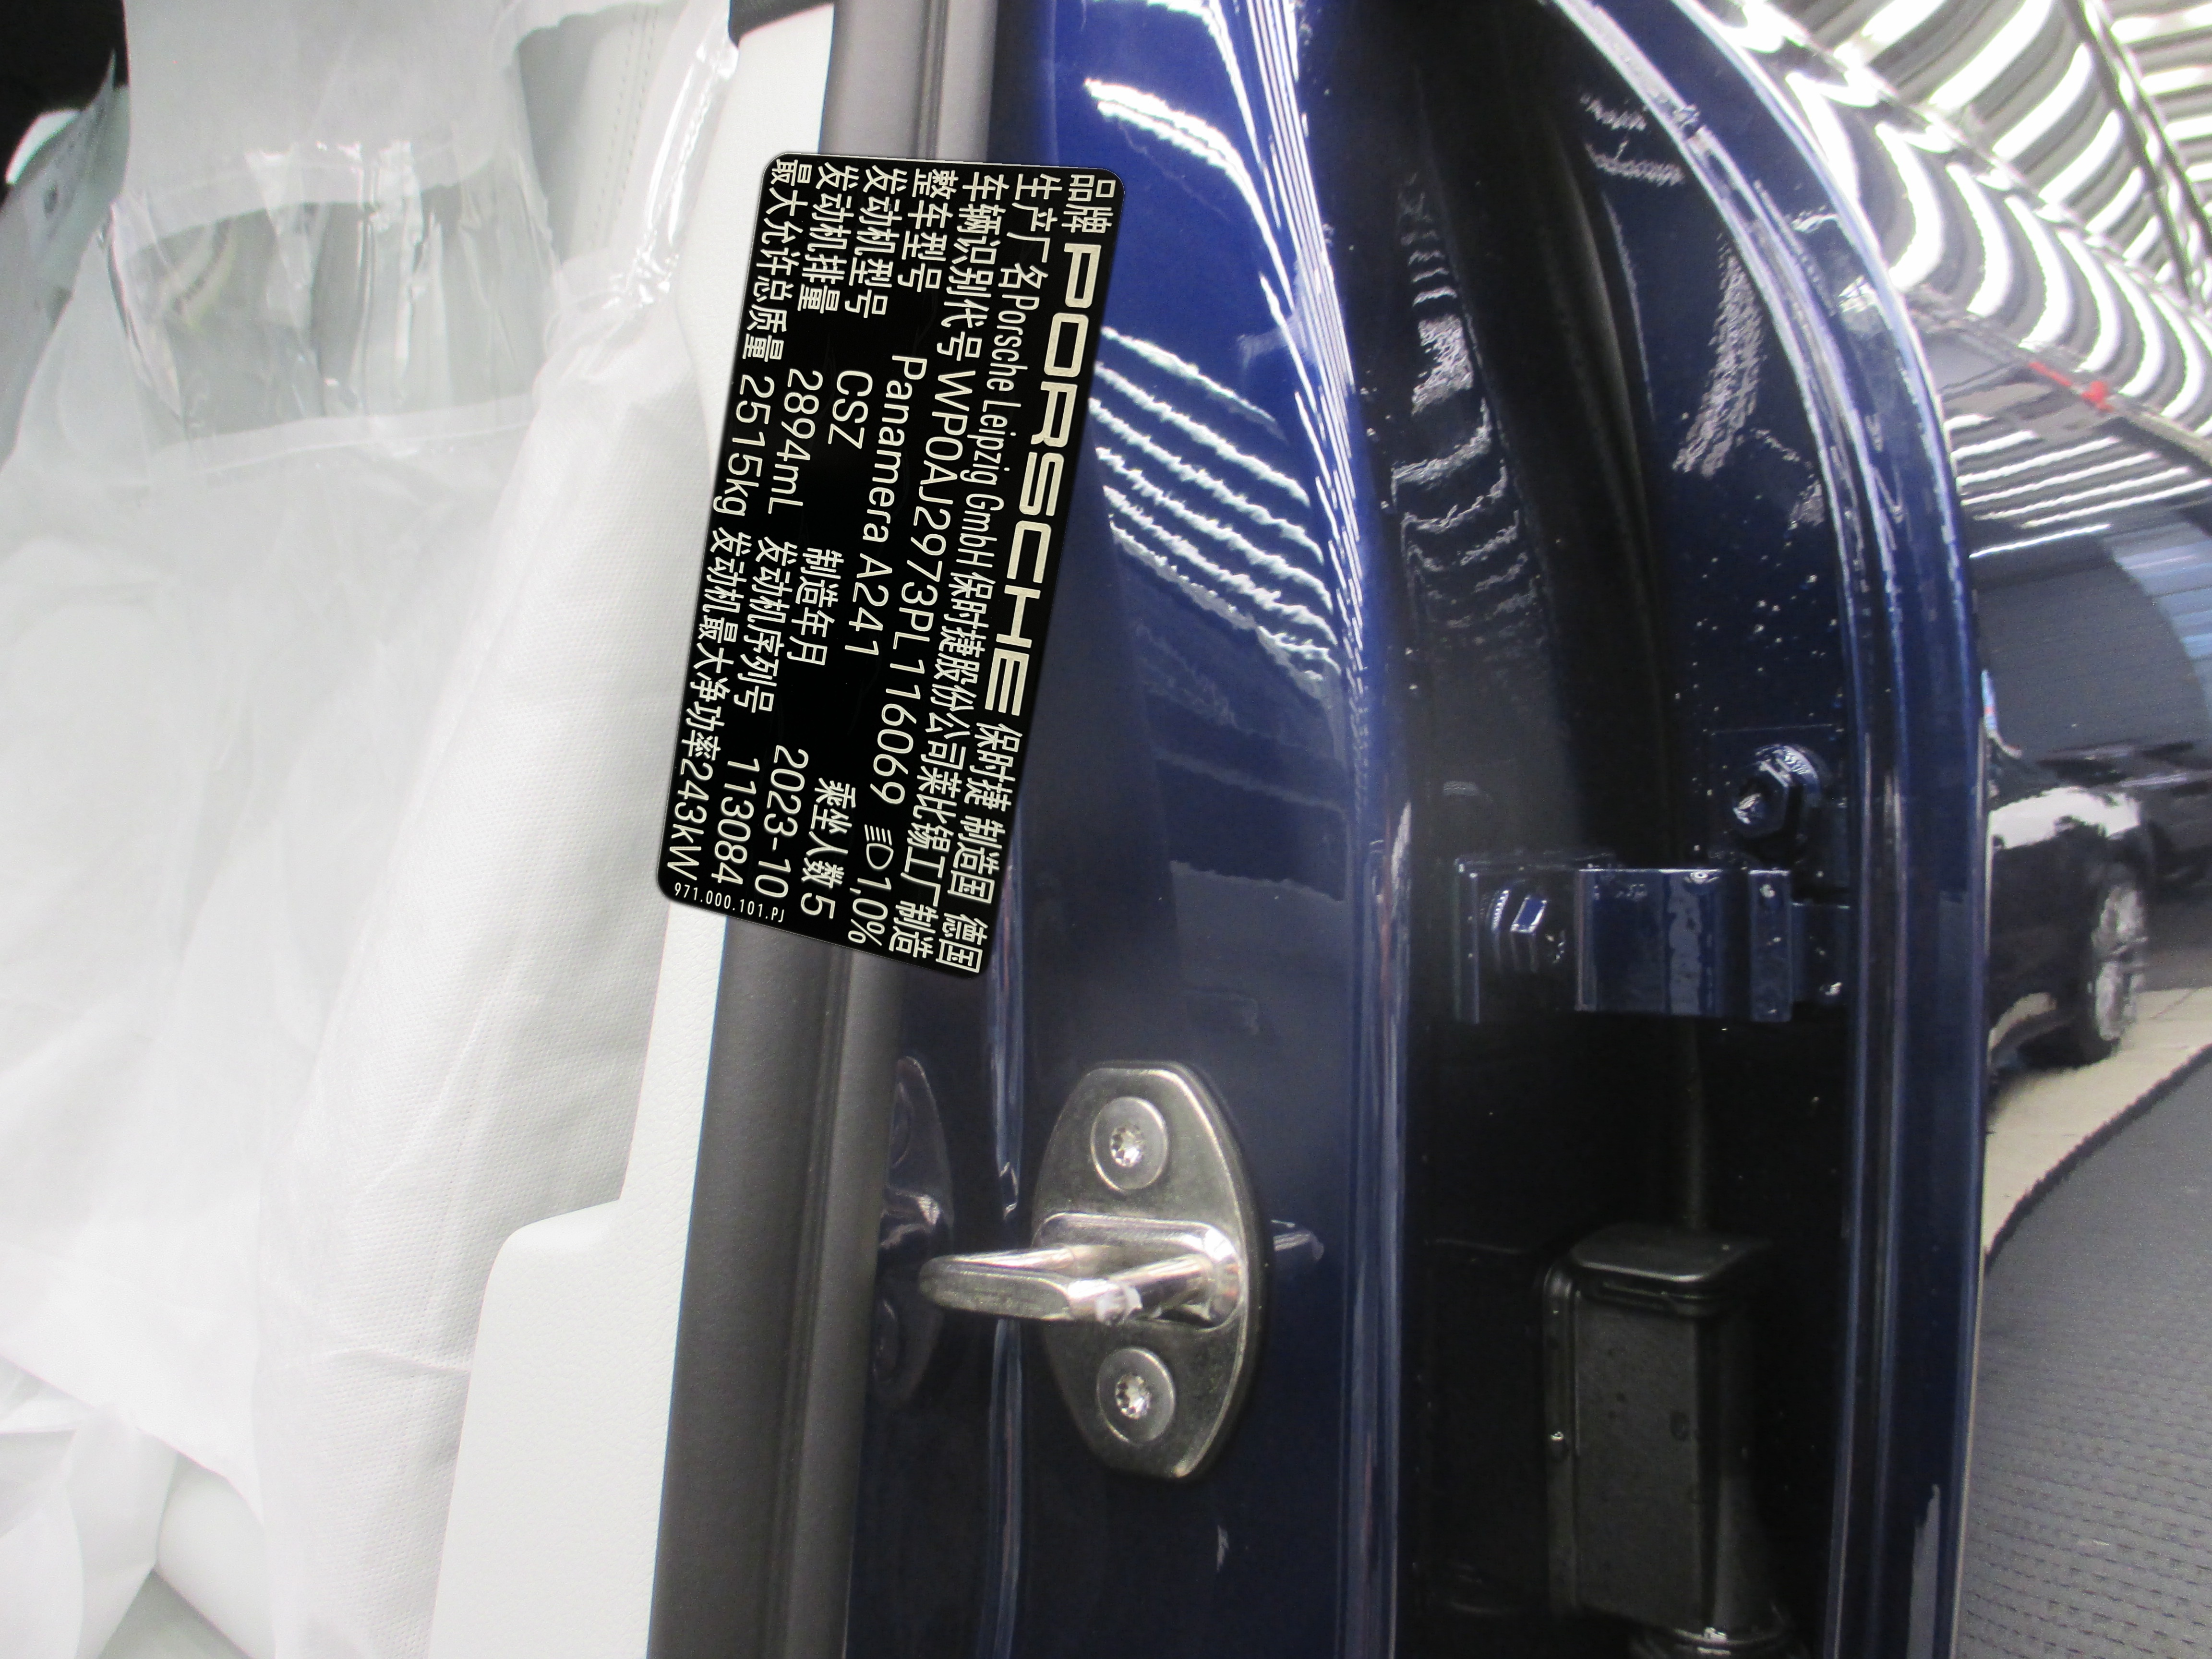Typlabel-China: (657, 153, 1123, 978)
